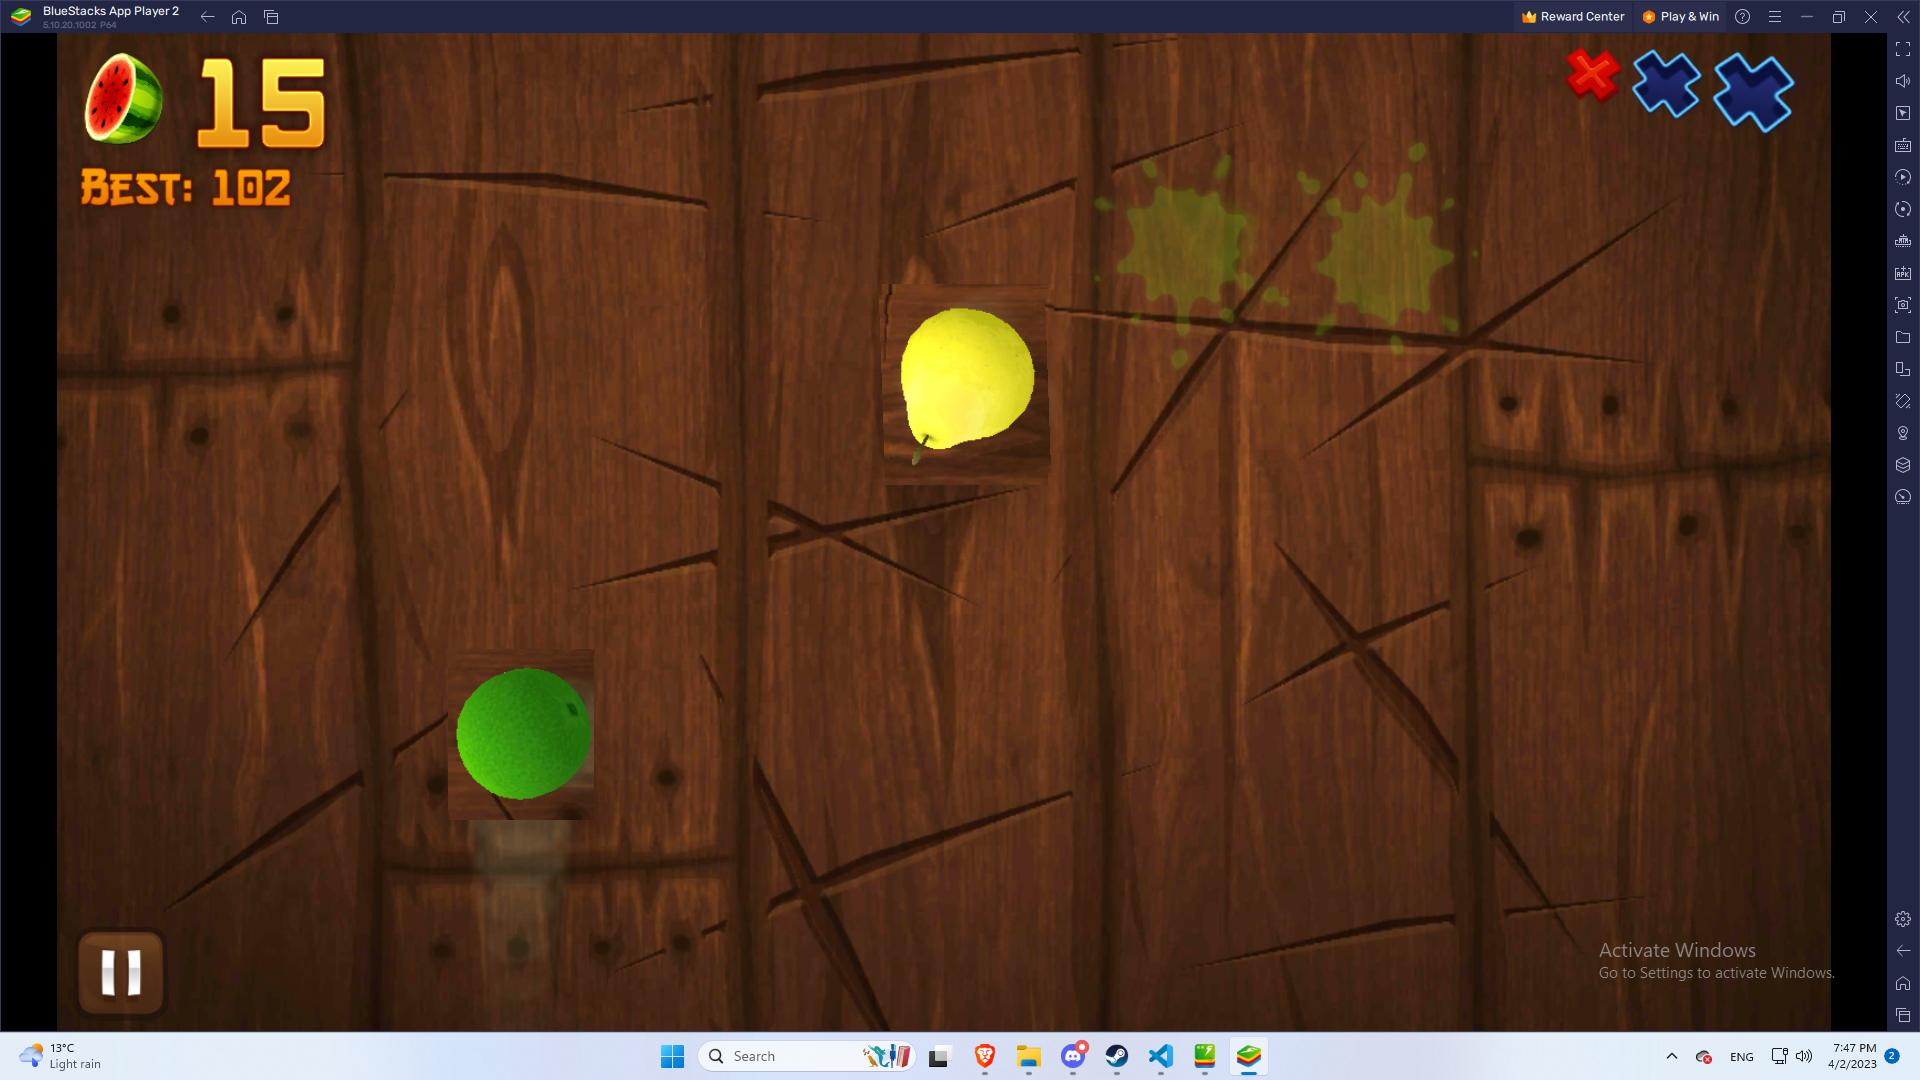fruit: (872, 291, 1059, 477), (443, 655, 603, 814)
